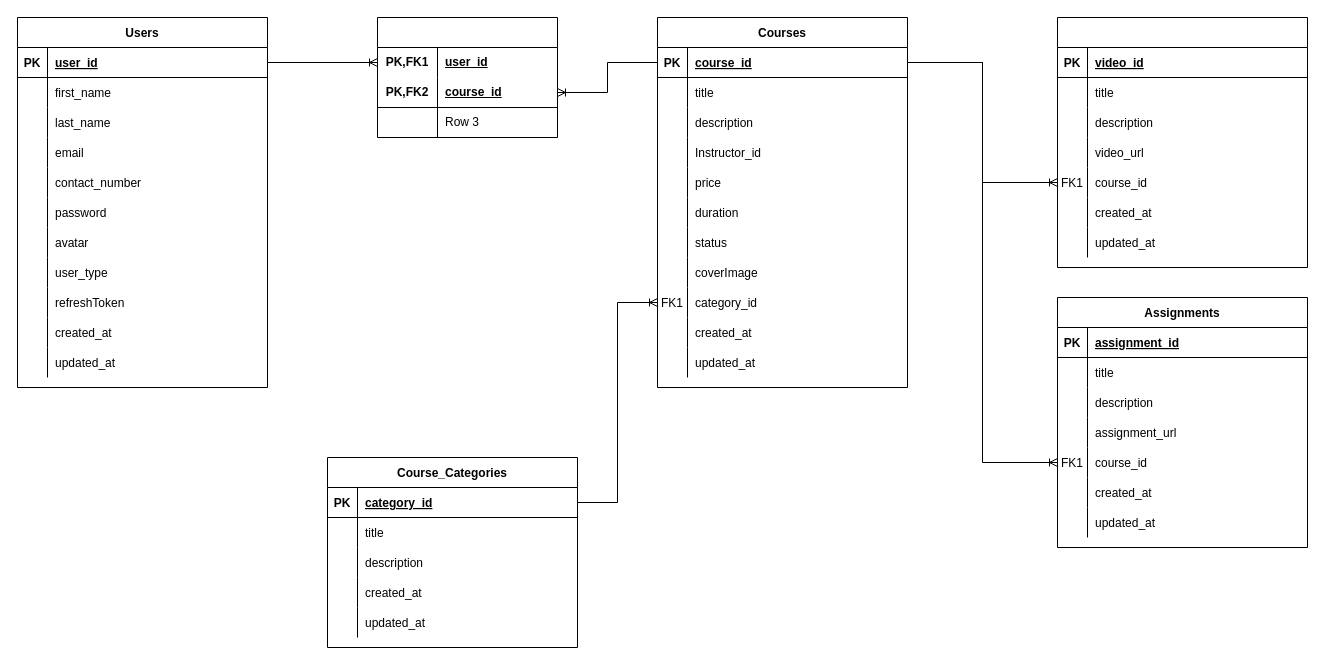
Some shapes in this 1325 by 665 pixel diagram are drawn without their labels. The shapes that lost their labels are listed below. From the top down, each one's box as (x1, y1, x2, y2) in pixels, then its label:
(376, 16, 558, 138): UserCourses
(1056, 16, 1308, 268): Lectures
